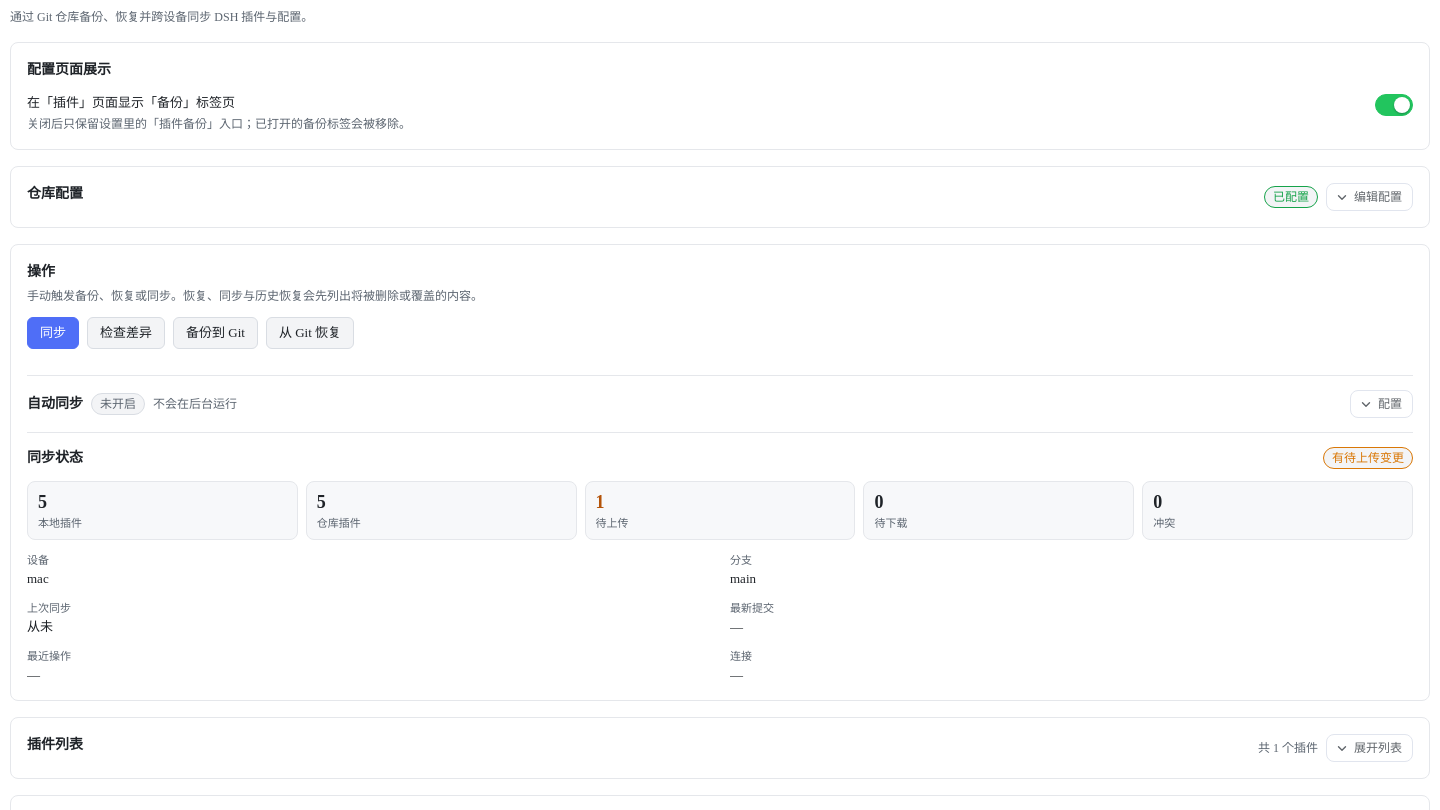
settings page render › opens the confirmation dialog with the destructive plan from the Host
Click the button "备份到 Git". click: point(215, 333)
box: [173,317,258,349]
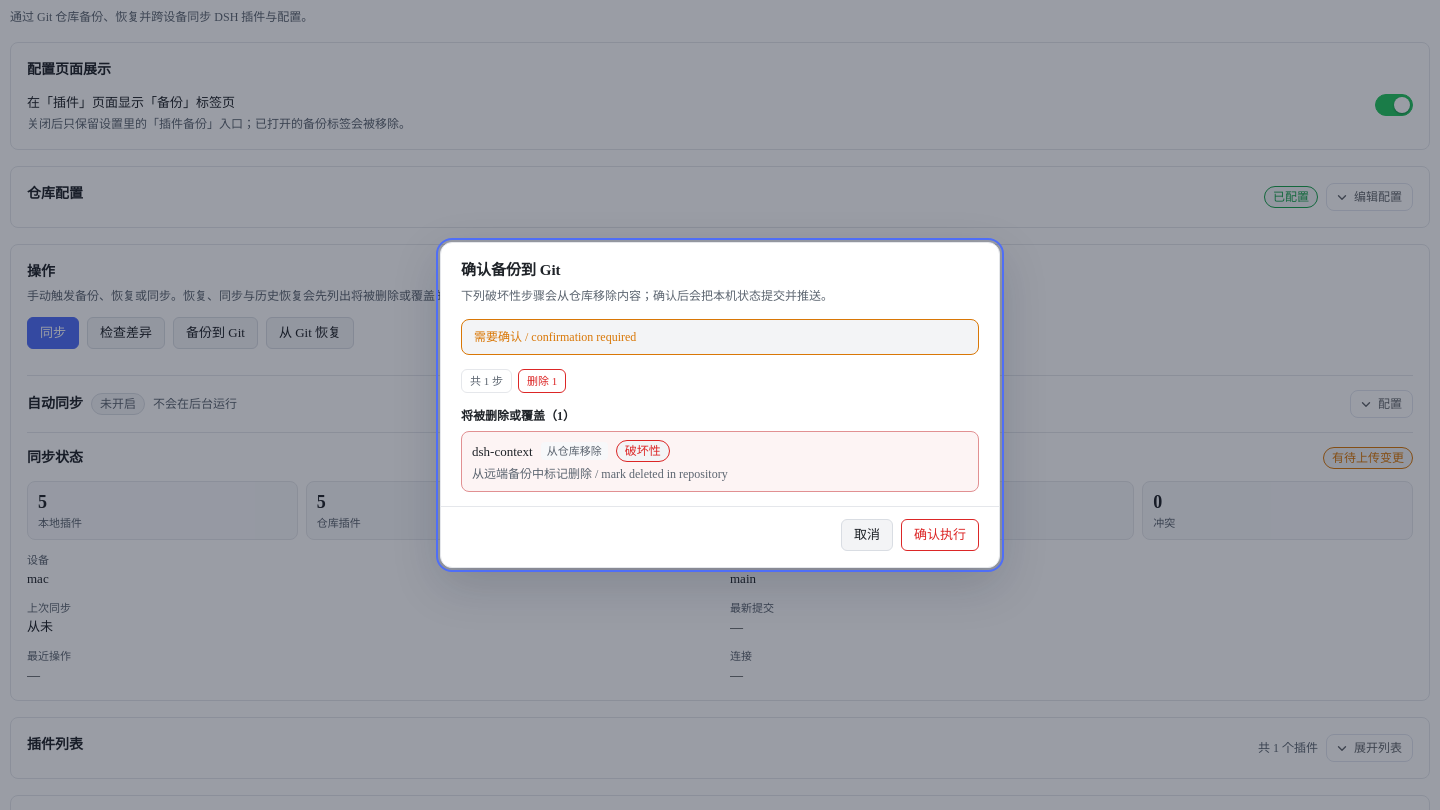
Expected: the text "确认" is shown, [461,262,561,278]
Expected: the text "dsh-context" is shown, [472,442,533,460]
Expected: the dialog is shown, [440,242,1000,568]
